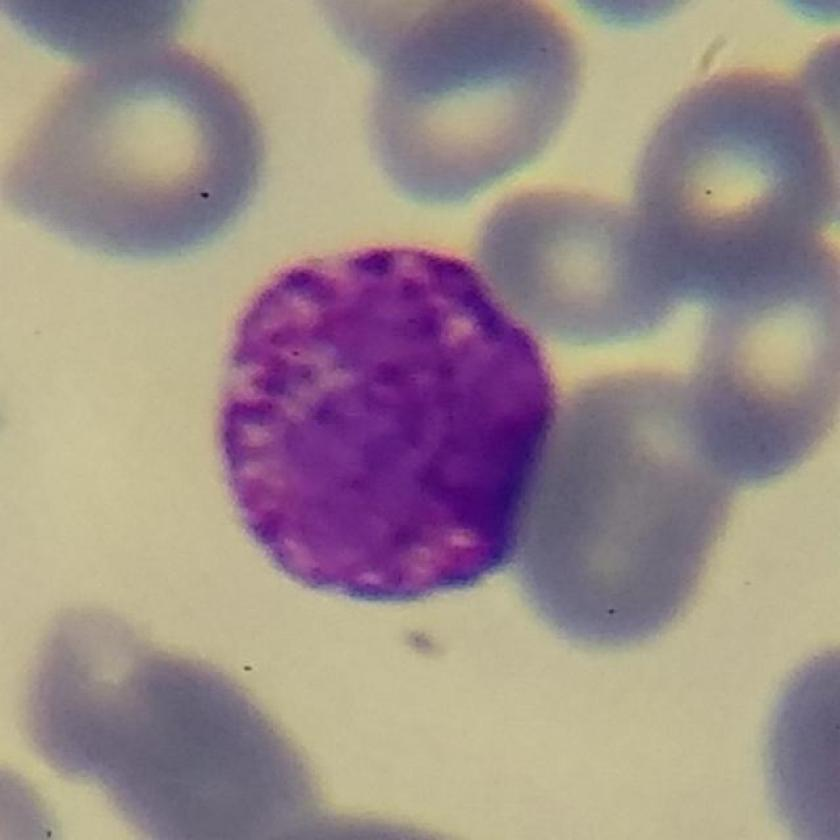basophil: (221, 240, 562, 614)
